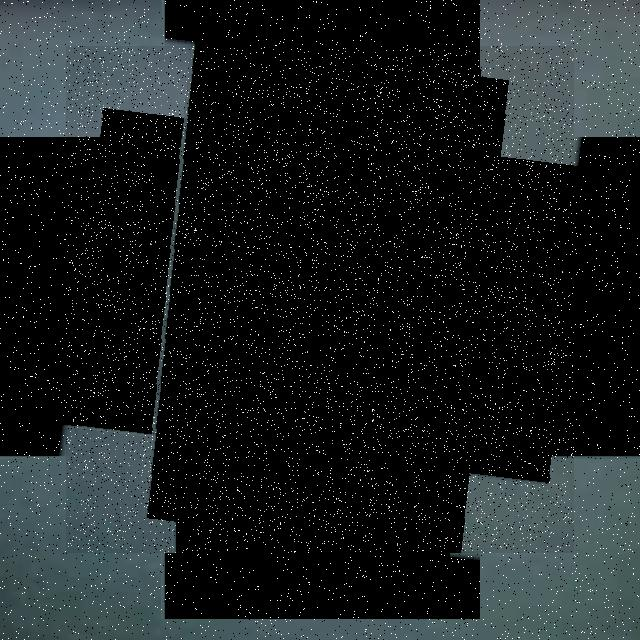lima puluh ribu rupiah: (66, 46, 574, 553)
